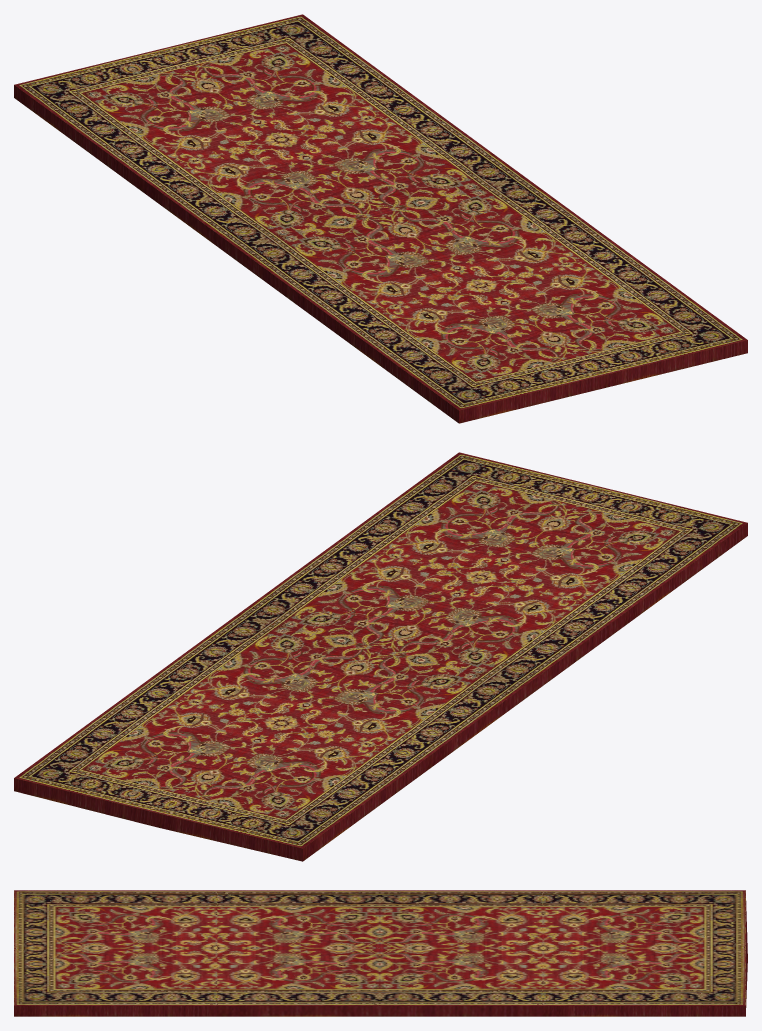
File: Rug_Area1.fbx
The picture shows the model from 3 angles, top to bottom: view 1: azimuth 30°, elevation 25°; view 2: azimuth 150°, elevation 25°; view 3: azimuth 270°, elevation 25°; orthographic projection. The views are drawn at different scales.
Visible parts, largest first — view 1: RugTiled.001; view 2: RugTiled.001; view 3: RugTiled.001.
Part boxes in pixels (x1,y1,x2,y2): RugTiled.001: (14, 14, 747, 423); RugTiled.001: (14, 452, 747, 861); RugTiled.001: (14, 890, 747, 1016).
Size of the model in its own units: 200 by 8.63 by 535.
